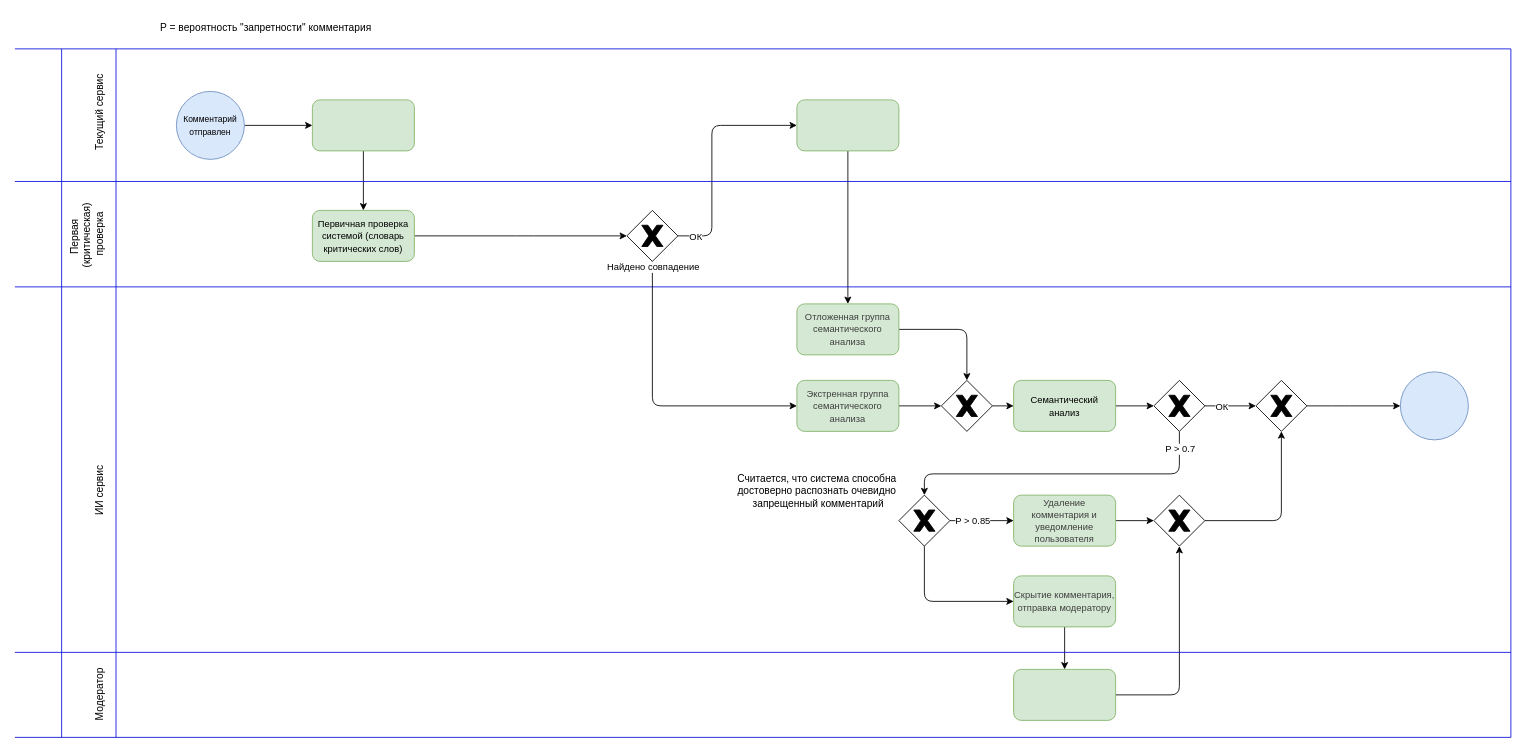
This 1527x753 diagram has some shape labels left out. The box of each missing label's shape, as (x1, y1, x2, y2) in pixels:
Завершение модерации: (1400, 371, 1468, 440)
Модерация комментария человеком: (1013, 669, 1116, 720)
Публикация комментария: (796, 99, 899, 151)
Сохранение комментария в бд: (312, 99, 414, 151)
